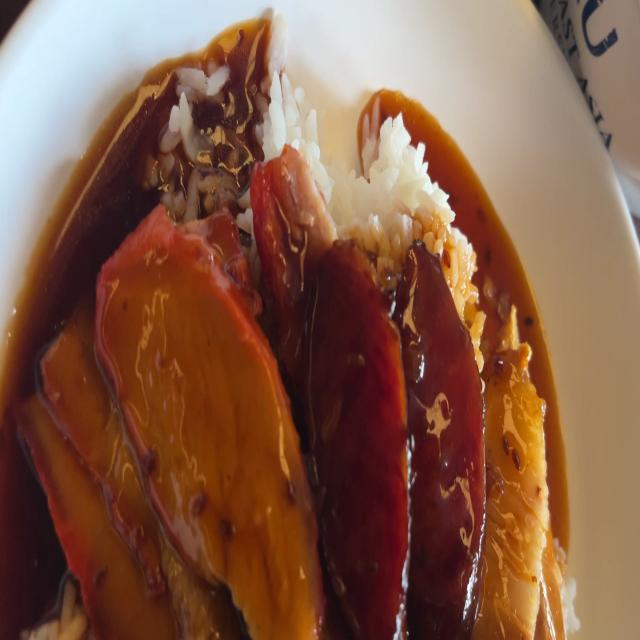01chainese_sausage: (314, 227, 481, 640), (394, 247, 478, 626), (325, 240, 404, 630)
01crispy_pork: (492, 293, 555, 640)
01red_pork: (29, 206, 312, 640), (105, 196, 319, 617), (49, 307, 179, 609), (251, 130, 327, 345)
01red_pork_and_crispy_pork: (1, 86, 576, 640)
01rice: (154, 49, 468, 225)
